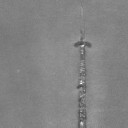slag inclusion: (72, 27, 92, 126)
